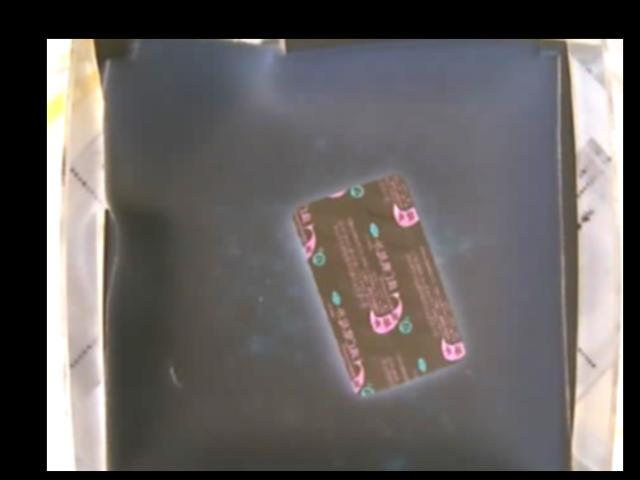Medicine: (292, 173, 467, 394)
